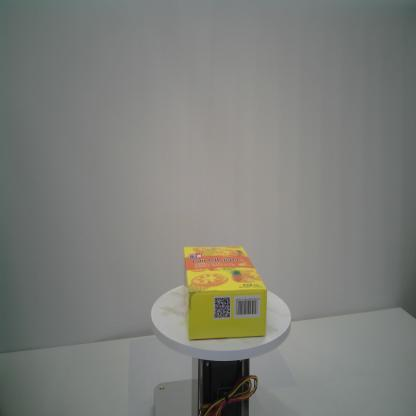Dessert: (180, 244, 270, 343)
